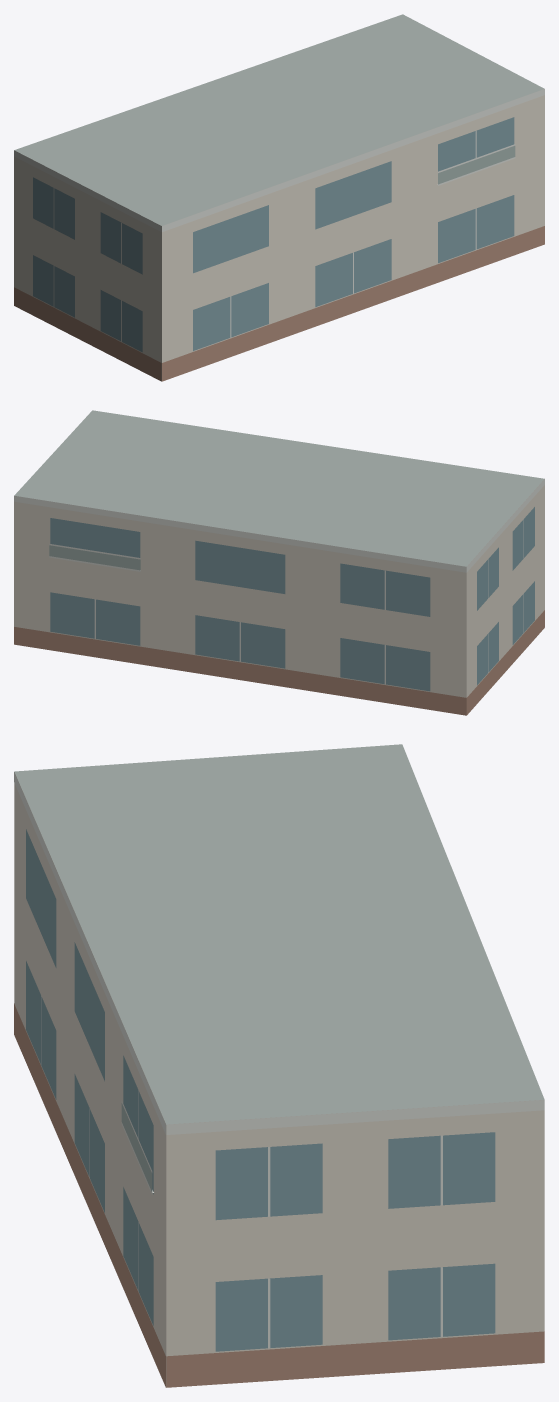
File: survey-upis-32840920.glb
3 renders of one model, top to bottom at view 1: azimuth 30°, elevation 25°; view 2: azimuth 150°, elevation 25°; view 3: azimuth 270°, elevation 25°, orthographic. The views are drawn at different scales.
Parts seen in each view (by area): view 1: survey-upis-32840920.tmp; view 2: survey-upis-32840920.tmp; view 3: survey-upis-32840920.tmp.
Boxes of the visible parts, <box> form: survey-upis-32840920.tmp: <box>14,14,544,381</box>; survey-upis-32840920.tmp: <box>14,410,544,715</box>; survey-upis-32840920.tmp: <box>14,744,544,1387</box>.
Size of the model in its own units: 18.93 by 6.1 by 11.16.
